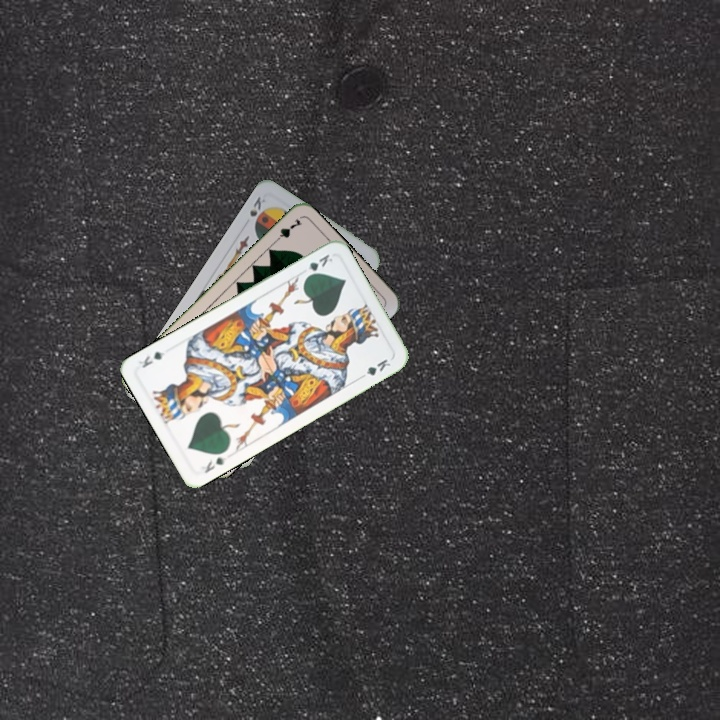G7: (269, 214, 304, 246)
GK: (301, 250, 335, 281), (197, 453, 229, 476)
SK: (245, 192, 268, 219)
